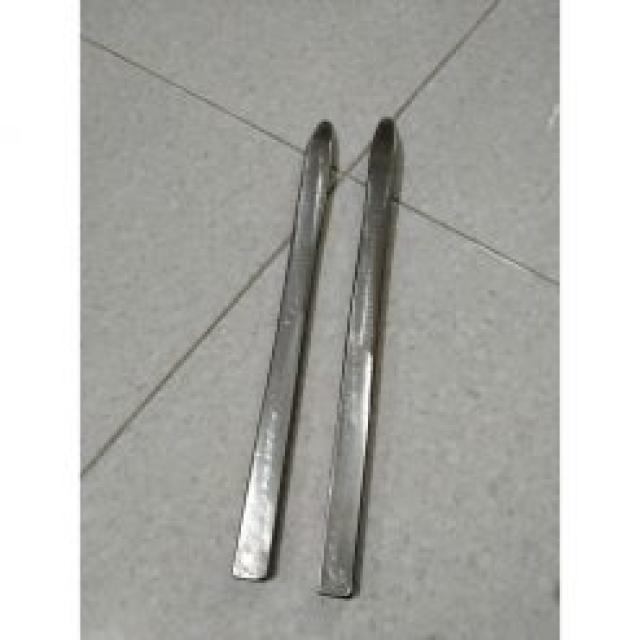Linggis: (210, 89, 348, 594), (314, 67, 413, 614)
